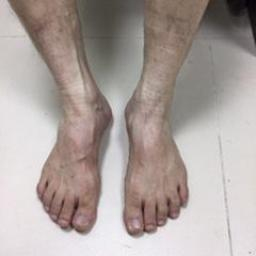Dorsal View -Both Feet-: (27, 66, 207, 243)
